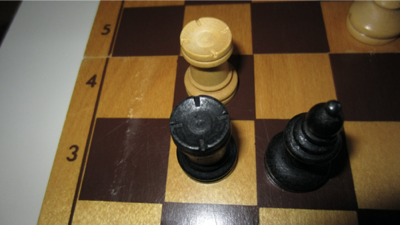black-bishop: (264, 99, 345, 194)
black-rook: (169, 95, 239, 185)
white-rook: (179, 17, 240, 106)
